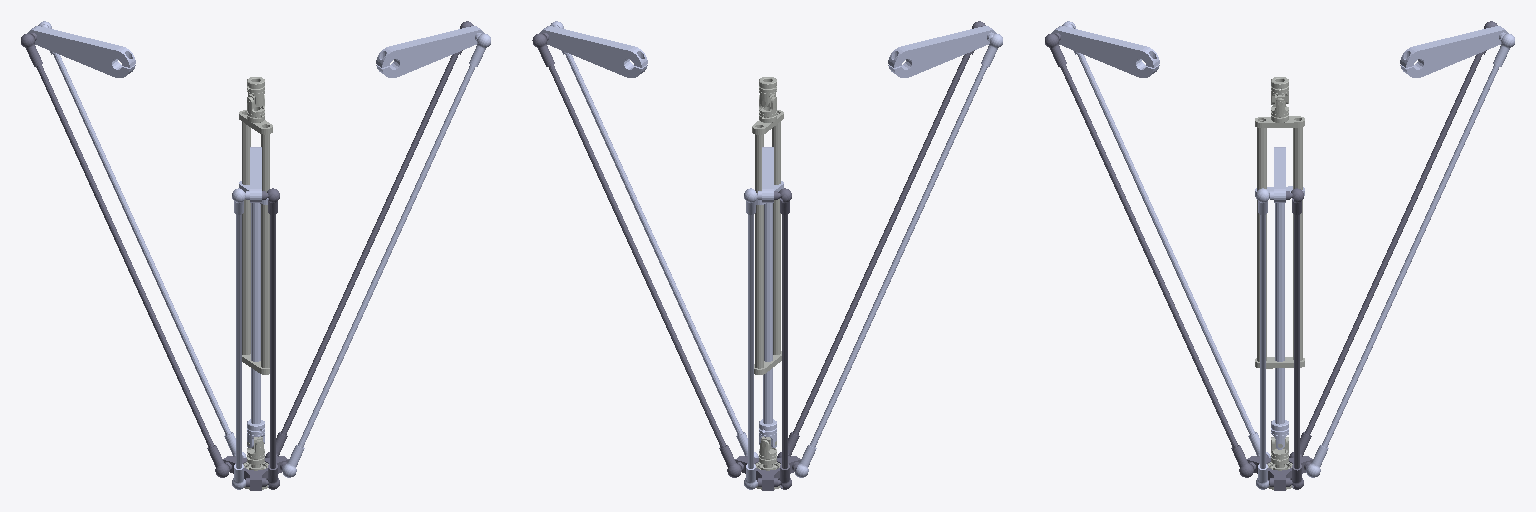
robot.urdf — delta4_robot:
<?xml version='1.0' encoding='utf-8'?>
<robot name="delta4_robot">
  <link name="base_link">
    <inertial>
      <origin xyz="-5.1936E-05 2.9686E-05 0.0056124" rpy="0 0 0" />
      <mass value="1.5287" />
      <inertia ixx="0.0042744" ixy="-7.4428E-07" ixz="1.302E-07" iyy="0.0042768" iyz="-1.5704E-07" izz="0.0082196" />
    </inertial>
    <visual>
      <origin xyz="0 0 0" rpy="0 0 0" />
      <geometry>
        <mesh filename="package://delta4_description/meshes/base_link.STL" />
      </geometry>
      <material name="">
        <color rgba="0.79216 0.81961 0.93333 1" />
      </material>
    </visual>
    </link>
  <link name="1">
    <inertial>
      <origin xyz="0.0332191557919046 -4.07081591491387E-08 -2.30852152671712E-08" rpy="0 0 0" />
      <mass value="0.0164328703182061" />
      <inertia ixx="6.96008977557597E-07" ixy="-3.05683665436E-11" ixz="-1.54396755571041E-11" iyy="1.0778694503897E-05" iyz="-4.42594051439949E-12" izz="1.11962992701903E-05" />
    </inertial>
    <visual>
      <origin xyz="0 0 0" rpy="0 0 0" />
      <geometry>
        <mesh filename="package://delta4_description/meshes/1.STL" />
      </geometry>
      <material name="">
        <color rgba="0.792156862745098 0.819607843137255 0.933333333333333 1" />
      </material>
    </visual>
    </link>
  <joint name="joint_1" type="revolute">
    <origin xyz="0.13 0 -0.02" rpy="1.5708 -0.08134 0" />
    <parent link="base_link" />
    <child link="1" />
    <axis xyz="0 0 -1" />
    <limit lower="0" upper="6.28" effort="1000" velocity="1000" />
  </joint>
  <link name="11">
    <inertial>
      <origin xyz="0.187041649958656 3.04639278003171E-05 -0.000118298476555284" rpy="0 0 0" />
      <mass value="0.0102579764680681" />
      <inertia ixx="6.53497554218515E-08" ixy="-1.00662347173867E-13" ixz="2.55645062216074E-14" iyy="8.64652043610904E-05" iyz="1.01309643571517E-09" izz="8.64588045717685E-05" />
    </inertial>
    <visual>
      <origin xyz="0 0 0" rpy="0 0 0" />
      <geometry>
        <mesh filename="package://delta4_description/meshes/11.STL" />
      </geometry>
      <material name="">
        <color rgba="0.792156862745098 0.819607843137255 0.933333333333333 1" />
      </material>
    </visual>
    </link>
  <joint name="joint_11" type="revolute">
    <origin xyz="0.08 0 0.014" rpy="0 0 -2.1423" />
    <parent link="1" />
    <child link="11" />
    <axis xyz="0 0 -1" />
    <limit lower="0" upper="6.28" effort="1000" velocity="1000" />
  </joint>
  <link name="111">
    <inertial>
      <origin xyz="0.0105234847608626 -0.0195812695010976 -0.0133189286659302" rpy="0 0 0" />
      <mass value="0.00786273505010893" />
      <inertia ixx="2.21087038378526E-06" ixy="4.82526211923474E-07" ixz="2.87491033081575E-14" iyy="1.56393260426946E-06" iyz="-5.15729650872001E-14" izz="1.29721535623425E-06" />
    </inertial>
    <visual>
      <origin xyz="0 0 0" rpy="0 0 0" />
      <geometry>
        <mesh filename="package://delta4_description/meshes/111.STL" />
      </geometry>
      <material name="">
        <color rgba="0.505882352941176 0.505882352941176 0.584313725490196 1" />
      </material>
    </visual>
    </link>
  <joint name="joint_111" type="revolute">
    <origin xyz="0.39485 0 0" rpy="0 0 0" />
    <parent link="11" />
    <child link="111" />
    <axis xyz="0 0 -1" />
    <limit lower="0" upper="6.28" effort="1000" velocity="1000" />
  </joint>
  <link name="12">
    <inertial>
      <origin xyz="0.187041679018799 -3.04645412353907E-05 0.000118298681988704" rpy="0 0 0" />
      <mass value="0.0102579762667969" />
      <inertia ixx="6.53497456837694E-08" ixy="-7.64726099993218E-14" ixz="1.7972550285944E-14" iyy="8.64652043697065E-05" iyz="1.0131123246709E-09" izz="8.64588045410236E-05" />
    </inertial>
    <visual>
      <origin xyz="0 0 0" rpy="0 0 0" />
      <geometry>
        <mesh filename="package://delta4_description/meshes/12.STL" />
      </geometry>
      <material name="">
        <color rgba="0.505882352941176 0.505882352941176 0.584313725490196 1" />
      </material>
    </visual>
    </link>
  <joint name="joint_12" type="revolute">
    <origin xyz="0.08 0 -0.014" rpy="0 0 -2.1423" />
    <parent link="1" />
    <child link="12" />
    <axis xyz="0 0 1" />
    <limit lower="0" upper="6.28" effort="1000" velocity="1000" />
  </joint>
  <link name="121">
    <inertial>
      <origin xyz="-2.42861286636753E-15 5.20417042793042E-16 0.00407409549700105" rpy="0 0 0" />
      <mass value="0.000539506193520435" />
      <inertia ixx="1.25867201372513E-08" ixy="-2.06795153138257E-25" ixz="-5.46456192167844E-23" iyy="1.25867201372513E-08" iyz="-1.08257262667877E-22" izz="3.31683628481004E-09" />
    </inertial>
    <visual>
      <origin xyz="0 0 0" rpy="0 0 0" />
      <geometry>
        <mesh filename="package://delta4_description/meshes/121.STL" />
      </geometry>
      <material name="">
        <color rgba="0.505882352941176 0.505882352941176 0.584313725490196 1" />
      </material>
    </visual>
    </link>
  <joint name="joint_121" type="revolute">
    <origin xyz="0.39485 0 0" rpy="0 0 0" />
    <parent link="12" />
    <child link="121" />
    <axis xyz="0 0 1" />
    <limit lower="0" upper="6.28" effort="1000" velocity="1000" />
  </joint>
  <link name="2">
    <inertial>
      <origin xyz="0.0332191557919039 -4.07081590381164E-08 -2.30852152394156E-08" rpy="0 0 0" />
      <mass value="0.0164328703182062" />
      <inertia ixx="6.96008977557598E-07" ixy="-3.05683665423741E-11" ixz="-1.54396755563603E-11" iyy="1.0778694503897E-05" iyz="-4.42594051820368E-12" izz="1.11962992701903E-05" />
    </inertial>
    <visual>
      <origin xyz="0 0 0" rpy="0 0 0" />
      <geometry>
        <mesh filename="package://delta4_description/meshes/2.STL" />
      </geometry>
      <material name="">
        <color rgba="0.792156862745098 0.819607843137255 0.933333333333333 1" />
      </material>
    </visual>
    </link>
  <joint name="joint_2" type="revolute">
    <origin xyz="-0.065 -0.11258 -0.02" rpy="1.5708 -0.08134 -2.0944" />
    <parent link="base_link" />
    <child link="2" />
    <axis xyz="0 0 -1" />
    <limit lower="0" upper="6.28" effort="1000" velocity="1000" />
  </joint>
  <link name="21">
    <inertial>
      <origin xyz="0.187041671275491 7.51833085465489E-05 -0.000147290992530053" rpy="0 0 0" />
      <mass value="0.0102579763552886" />
      <inertia ixx="6.53497671756376E-08" ixy="-1.59042436699127E-14" ixz="2.20147016547768E-14" iyy="8.64668414103596E-05" iyz="1.74497344875076E-09" izz="8.64571674826803E-05" />
    </inertial>
    <visual>
      <origin xyz="0 0 0" rpy="0 0 0" />
      <geometry>
        <mesh filename="package://delta4_description/meshes/21.STL" />
      </geometry>
      <material name="">
        <color rgba="0.792156862745098 0.819607843137255 0.933333333333333 1" />
      </material>
    </visual>
    </link>
  <joint name="joint_21" type="revolute">
    <origin xyz="0.08 0 0.014" rpy="0 0 -2.1423" />
    <parent link="2" />
    <child link="21" />
    <axis xyz="0 0 -1" />
    <limit lower="0" upper="6.28" effort="1000" velocity="1000" />
  </joint>
  <link name="211">
    <inertial>
      <origin xyz="-2.60902410786912E-15 4.57966997657877E-16 -0.00407409549700005" rpy="0 0 0" />
      <mass value="0.000539506193520435" />
      <inertia ixx="1.25867201372514E-08" ixy="0" ixz="-4.34350283999744E-24" iyy="1.25867201372514E-08" iyz="-3.60411820071804E-23" izz="3.31683628481004E-09" />
    </inertial>
    <visual>
      <origin xyz="0 0 0" rpy="0 0 0" />
      <geometry>
        <mesh filename="package://delta4_description/meshes/211.STL" />
      </geometry>
      <material name="">
        <color rgba="0.505882352941176 0.505882352941176 0.584313725490196 1" />
      </material>
    </visual>
    </link>
  <joint name="joint_211" type="revolute">
    <origin xyz="0.39485 0 0" rpy="0 0 0" />
    <parent link="21" />
    <child link="211" />
    <axis xyz="0 0 -1" />
    <limit lower="0" upper="6.28" effort="1000" velocity="1000" />
  </joint>
  <link name="22">
    <inertial>
      <origin xyz="0.187041660824382 -1.8358649849573E-05 0.000115267102918773" rpy="0 0 0" />
      <mass value="0.0102579739221535" />
      <inertia ixx="6.53497610686675E-08" ixy="-9.6562975300844E-15" ixz="1.93074676600917E-15" iyy="8.64649994334799E-05" iyz="6.2980780077917E-10" izz="8.64590092293636E-05" />
    </inertial>
    <visual>
      <origin xyz="0 0 0" rpy="0 0 0" />
      <geometry>
        <mesh filename="package://delta4_description/meshes/22.STL" />
      </geometry>
      <material name="">
        <color rgba="0.505882352941176 0.505882352941176 0.584313725490196 1" />
      </material>
    </visual>
    </link>
  <joint name="joint_22" type="revolute">
    <origin xyz="0.08 0 -0.014" rpy="0 0 -2.1423" />
    <parent link="2" />
    <child link="22" />
    <axis xyz="0 0 1" />
    <limit lower="0" upper="6.28" effort="1000" velocity="1000" />
  </joint>
  <link name="221">
    <inertial>
      <origin xyz="-2.38697950294409E-15 4.30211422042248E-16 0.00407409549700122" rpy="0 0 0" />
      <mass value="0.000539506193520435" />
      <inertia ixx="1.25867201372513E-08" ixy="0" ixz="-1.68484367013444E-24" iyy="1.25867201372513E-08" iyz="-3.9671112035544E-23" izz="3.31683628481004E-09" />
    </inertial>
    <visual>
      <origin xyz="0 0 0" rpy="0 0 0" />
      <geometry>
        <mesh filename="package://delta4_description/meshes/221.STL" />
      </geometry>
      <material name="">
        <color rgba="0.505882352941176 0.505882352941176 0.584313725490196 1" />
      </material>
    </visual>
    </link>
  <joint name="joint_221" type="revolute">
    <origin xyz="0.39485 0 0" rpy="0 0 0" />
    <parent link="22" />
    <child link="221" />
    <axis xyz="0 0 1" />
    <limit lower="0" upper="6.28" effort="1000" velocity="1000" />
  </joint>
  <link name="3">
    <inertial>
      <origin xyz="0.0332191557919042 -4.17451739842534E-08 -2.11523470960984E-08" rpy="0 0 0" />
      <mass value="0.0164328703182062" />
      <inertia ixx="6.96008977557598E-07" ixy="-3.12582639046092E-11" ixz="-1.39903378102715E-11" iyy="1.07796110198338E-05" iyz="1.95422987822885E-08" izz="1.11953827542536E-05" />
    </inertial>
    <visual>
      <origin xyz="0 0 0" rpy="0 0 0" />
      <geometry>
        <mesh filename="package://delta4_description/meshes/3.STL" />
      </geometry>
      <material name="">
        <color rgba="0.792156862745098 0.819607843137255 0.933333333333333 1" />
      </material>
    </visual>
    </link>
  <joint name="joint_3" type="revolute">
    <origin xyz="-0.065 0.11258 -0.02" rpy="1.6177 -0.08134 2.0944" />
    <parent link="base_link" />
    <child link="3" />
    <axis xyz="0 -0.046858 -0.9989" />
    <limit lower="0" upper="6.28" effort="1000" velocity="1000" />
  </joint>
  <link name="31">
    <inertial>
      <origin xyz="0.187041679448977 4.69512144913309E-05 -0.000125195768451394" rpy="0 0 0" />
      <mass value="0.0102579753897234" />
      <inertia ixx="6.5349757908853E-08" ixy="-4.3356675841954E-14" ixz="2.83073338659512E-14" iyy="8.64656465733897E-05" iyz="1.44917960744151E-09" izz="8.64583622446981E-05" />
    </inertial>
    <visual>
      <origin xyz="0 0 0" rpy="0 0 0" />
      <geometry>
        <mesh filename="package://delta4_description/meshes/31.STL" />
      </geometry>
      <material name="">
        <color rgba="0.792156862745098 0.819607843137255 0.933333333333333 1" />
      </material>
    </visual>
    </link>
  <joint name="joint_31" type="revolute">
    <origin xyz="0.08 0.00065601 0.013985" rpy="0.025366 -0.039423 -2.1428" />
    <parent link="3" />
    <child link="31" />
    <axis xyz="0 0 -1" />
    <limit lower="0" upper="6.28" effort="1000" velocity="1000" />
  </joint>
  <link name="311">
    <inertial>
      <origin xyz="1.94289029309402E-16 8.88178419700125E-16 -0.00407409549700084" rpy="0 0 0" />
      <mass value="0.000539506193520435" />
      <inertia ixx="1.25867201372513E-08" ixy="2.06795153138257E-25" ixz="-5.06648125188729E-24" iyy="1.25867201372513E-08" iyz="-2.67799723314043E-23" izz="3.31683628481005E-09" />
    </inertial>
    <visual>
      <origin xyz="0 0 0" rpy="0 0 0" />
      <geometry>
        <mesh filename="package://delta4_description/meshes/311.STL" />
      </geometry>
      <material name="">
        <color rgba="0.505882352941176 0.505882352941176 0.584313725490196 1" />
      </material>
    </visual>
    </link>
  <joint name="joint_311" type="revolute">
    <origin xyz="0.39485 0 0" rpy="0 0 0" />
    <parent link="31" />
    <child link="311" />
    <axis xyz="0 0 -1" />
    <limit lower="0" upper="6.28" effort="1000" velocity="1000" />
  </joint>
  <link name="32">
    <inertial>
      <origin xyz="0.187041647499592 -4.69513401012145E-05 0.000125195839974696" rpy="0 0 0" />
      <mass value="0.0102579753049328" />
      <inertia ixx="6.53497538144675E-08" ixy="-2.03796351469718E-14" ixz="1.61252815464014E-14" iyy="8.64656465728051E-05" iyz="1.44917885692967E-09" izz="8.64583622360096E-05" />
    </inertial>
    <visual>
      <origin xyz="0 0 0" rpy="0 0 0" />
      <geometry>
        <mesh filename="package://delta4_description/meshes/32.STL" />
      </geometry>
      <material name="">
        <color rgba="0.505882352941176 0.505882352941176 0.584313725490196 1" />
      </material>
    </visual>
    </link>
  <joint name="joint_32" type="revolute">
    <origin xyz="0.08 -0.00065601 -0.013985" rpy="0.025366 -0.039423 -2.1428" />
    <parent link="3" />
    <child link="32" />
    <axis xyz="0 0 1" />
    <limit lower="0" upper="6.28" effort="1000" velocity="1000" />
  </joint>
  <link name="321">
    <inertial>
      <origin xyz="1.66533453693773E-16 8.32667268468867E-16 0.00407409549700036" rpy="0 0 0" />
      <mass value="0.000539506193520436" />
      <inertia ixx="1.25867201372514E-08" ixy="-9.30578189122156E-25" ixz="6.04875822929401E-24" iyy="1.25867201372514E-08" iyz="-2.19202862326552E-23" izz="3.31683628481004E-09" />
    </inertial>
    <visual>
      <origin xyz="0 0 0" rpy="0 0 0" />
      <geometry>
        <mesh filename="package://delta4_description/meshes/321.STL" />
      </geometry>
      <material name="">
        <color rgba="0.505882352941176 0.505882352941176 0.584313725490196 1" />
      </material>
    </visual>
    </link>
  <joint name="joint_321" type="revolute">
    <origin xyz="0.39485 0 0" rpy="0 0 0" />
    <parent link="32" />
    <child link="321" />
    <axis xyz="0 0 1" />
    <limit lower="0" upper="6.28" effort="1000" velocity="1000" />
  </joint>
  <link name="4">
    <inertial>
      <origin xyz="4.22051041337745E-09 7.90242890569282E-09 0.00644065846947697" rpy="0 0 0" />
      <mass value="0.00151305684520863" />
      <inertia ixx="7.76380429873237E-08" ixy="1.06758944474477E-13" ixz="-1.27965978348483E-13" iyy="6.42955272093896E-08" iyz="2.85021212069995E-13" izz="5.48378642213392E-08" />
    </inertial>
    <visual>
      <origin xyz="0 0 0" rpy="0 0 0" />
      <geometry>
        <mesh filename="package://delta4_description/meshes/4.STL" />
      </geometry>
      <material name="">
        <color rgba="0.756862745098039 0.768627450980392 0.752941176470588 1" />
      </material>
    </visual>
    </link>
  <joint name="joint_4" type="revolute">
    <origin xyz="0 0 -0.02" rpy="0 0 0.037403" />
    <parent link="base_link" />
    <child link="4" />
    <axis xyz="0 0 1" />
    <limit lower="0" upper="6.28" effort="1000" velocity="1000" />
  </joint>
  <link name="41">
    <inertial>
      <origin xyz="-1.1518563880486E-15 -1.38777878078145E-16 -2.77555756156289E-17" rpy="0 0 0" />
      <mass value="0.000852115950566532" />
      <inertia ixx="1.2127907628535E-08" ixy="1.4954880343257E-23" ixz="0" iyy="1.48133687782392E-08" iyz="2.40392107614004E-24" izz="1.2127907628535E-08" />
    </inertial>
    <visual>
      <origin xyz="0 0 0" rpy="0 0 0" />
      <geometry>
        <mesh filename="package://delta4_description/meshes/41.STL" />
      </geometry>
      <material name="">
        <color rgba="0.756862745098039 0.768627450980392 0.752941176470588 1" />
      </material>
    </visual>
    </link>
  <joint name="joint_41" type="revolute">
    <origin xyz="0 0 -0.004" rpy="1.5708 0 0" />
    <parent link="4" />
    <child link="41" />
    <axis xyz="0 0 -1" />
    <limit lower="0" upper="6.28" effort="1000" velocity="1000" />
  </joint>
  <link name="411">
    <inertial>
      <origin xyz="-0.113275443707768 -4.33624164353219E-10 7.89386833677241E-10" rpy="0 0 0" />
      <mass value="0.0151504453724169" />
      <inertia ixx="6.41413678015845E-07" ixy="-1.26739956996394E-13" ixz="-2.8488974216687E-13" iyy="3.92328614975377E-05" iyz="-1.06798340584005E-13" izz="3.95821990660991E-05" />
    </inertial>
    <visual>
      <origin xyz="0 0 0" rpy="0 0 0" />
      <geometry>
        <mesh filename="package://delta4_description/meshes/411.STL" />
      </geometry>
      <material name="">
        <color rgba="0.756862745098039 0.768627450980392 0.752941176470588 1" />
      </material>
    </visual>
    </link>
  <joint name="joint_411" type="revolute">
    <origin xyz="0 0 0" rpy="1.5708 0 1.5708" />
    <parent link="41" />
    <child link="411" />
    <axis xyz="0 0 -1" />
    <limit lower="0" upper="6.28" effort="1000" velocity="1000" />
  </joint>
  <link name="4111">
    <inertial>
      <origin xyz="-7.99613736335303E-10 -1.49719010800187E-09 0.120044998050398" rpy="0 0 0" />
      <mass value="0.00798617591742343" />
      <inertia ixx="1.96486123039808E-05" ixy="1.06758943387562E-13" ixz="1.27966214220805E-13" iyy="1.9806006955144E-05" iyz="-2.85021197651175E-13" izz="3.33730404518576E-07" />
    </inertial>
    <visual>
      <origin xyz="0 0 0" rpy="0 0 0" />
      <geometry>
        <mesh filename="package://delta4_description/meshes/4111.STL" />
      </geometry>
      <material name="">
        <color rgba="0.792156862745098 0.819607843137255 0.933333333333333 1" />
      </material>
    </visual>
    </link>
  <joint name="joint_4111" type="prismatic">
    <origin xyz="-0.31187 0 0" rpy="1.5708 0 1.5708" />
    <parent link="411" />
    <child link="4111" />
    <axis xyz="0 0 1" />
    <limit lower="0" upper="6.28" effort="1000" velocity="1000" />
  </joint>
  <link name="41111">
    <inertial>
      <origin xyz="8.32667268468867E-17 -3.05311331771918E-16 5.55111512312578E-17" rpy="0 0 0" />
      <mass value="0.000852115950566531" />
      <inertia ixx="1.2127907628535E-08" ixy="-5.84478120089882E-24" ixz="-2.48154183765908E-24" iyy="1.48133687782392E-08" iyz="-1.77217946928894E-23" izz="1.2127907628535E-08" />
    </inertial>
    <visual>
      <origin xyz="0 0 0" rpy="0 0 0" />
      <geometry>
        <mesh filename="package://delta4_description/meshes/41111.STL" />
      </geometry>
      <material name="">
        <color rgba="0.756862745098039 0.768627450980392 0.752941176470588 1" />
      </material>
    </visual>
    </link>
  <joint name="joint_41111" type="revolute">
    <origin xyz="0 0 0" rpy="1.5708 0 0" />
    <parent link="4111" />
    <child link="41111" />
    <axis xyz="0 0 -1" />
    <limit lower="0" upper="6.28" effort="1000" velocity="1000" />
  </joint>
  <link name="411111">
    <inertial>
      <origin xyz="-0.0258618985042968 -8.44322473048109E-10 1.53939538893866E-09" rpy="0 0 0" />
      <mass value="0.00777029234237775" />
      <inertia ixx="5.68324834833635E-07" ixy="-1.26739956115632E-13" ixz="-2.84889744406163E-13" iyy="5.9375202534848E-07" iyz="-1.06798541171994E-13" izz="5.80409509616738E-07" />
    </inertial>
    <visual>
      <origin xyz="0 0 0" rpy="0 0 0" />
      <geometry>
        <mesh filename="package://delta4_description/meshes/411111.STL" />
      </geometry>
      <material name="">
        <color rgba="0.756862745098039 0.768627450980392 0.752941176470588 1" />
      </material>
    </visual>
    </link>
  <joint name="joint_411111" type="revolute">
    <origin xyz="0 0 0" rpy="1.5708 0 1.5708" />
    <parent link="41111" />
    <child link="411111" />
    <axis xyz="0 0 1" />
    <limit lower="0" upper="6.28" effort="1000" velocity="1000" />
  </joint>
</robot>

--- What the picture shows (computed from the rendered views, not written in the file) ---
Views: 3 orthographic renders of the robot side by side, from view 1: azimuth 30°, elevation 25°; view 2: azimuth 150°, elevation 25°; view 3: azimuth 270°, elevation 25°.
Model delta4_robot with 22 links and 21 joints (20 revolute, 1 prismatic), rooted at base_link, posed every joint at zero.
Links seen in each view (by area): view 1: 411, 32, 11, 12, 31, 3, 1, 4111, 21, 22, 2, 111; view 2: 411, 21, 12, 11, 22, 2, 1, 4111, 31, 32, 3, 111; view 3: 411, 22, 31, 32, 21, 2, 3, 4111, 11, 12, 1, 111 (+1 smaller).
Boxes of the visible links, x1=… form: 411: x1=239, y1=95, x2=272, y2=374; 32: x1=21, y1=33, x2=229, y2=477; 11: x1=282, y1=33, x2=490, y2=477; 12: x1=265, y1=21, x2=473, y2=457; 31: x1=38, y1=21, x2=246, y2=457; 3: x1=27, y1=26, x2=135, y2=77; 1: x1=376, y1=26, x2=484, y2=77; 4111: x1=239, y1=181, x2=267, y2=447; 21: x1=232, y1=188, x2=249, y2=489; 22: x1=262, y1=188, x2=279, y2=489; 2: x1=250, y1=147, x2=261, y2=202; 111: x1=223, y1=456, x2=288, y2=490; 411: x1=752, y1=95, x2=783, y2=374; 21: x1=795, y1=32, x2=1002, y2=477; 12: x1=532, y1=33, x2=741, y2=477; 11: x1=550, y1=21, x2=758, y2=457; 22: x1=777, y1=21, x2=985, y2=457; 2: x1=888, y1=26, x2=996, y2=77; 1: x1=539, y1=26, x2=647, y2=77; 4111: x1=756, y1=181, x2=783, y2=447; 31: x1=744, y1=188, x2=761, y2=489; 32: x1=774, y1=188, x2=791, y2=489; 3: x1=762, y1=147, x2=773, y2=202; 111: x1=735, y1=456, x2=800, y2=490; 411: x1=1255, y1=98, x2=1304, y2=368; 22: x1=1045, y1=33, x2=1253, y2=477; 31: x1=1306, y1=32, x2=1514, y2=477; 32: x1=1289, y1=21, x2=1497, y2=457; 21: x1=1062, y1=21, x2=1270, y2=457; 2: x1=1051, y1=26, x2=1159, y2=77; 3: x1=1400, y1=26, x2=1508, y2=77; 4111: x1=1255, y1=186, x2=1304, y2=449; 11: x1=1256, y1=188, x2=1273, y2=489; 12: x1=1286, y1=188, x2=1303, y2=489; 1: x1=1274, y1=147, x2=1285, y2=202; 111: x1=1247, y1=456, x2=1312, y2=490.
Bounding box of the posed robot: 0.3387 × 0.3893 × 0.3669 m (x, y, z).
21 mesh visuals loaded from 22 distinct referenced files (21 binary STL); not drawn: 1 (reference not matched to a file when rendering).
